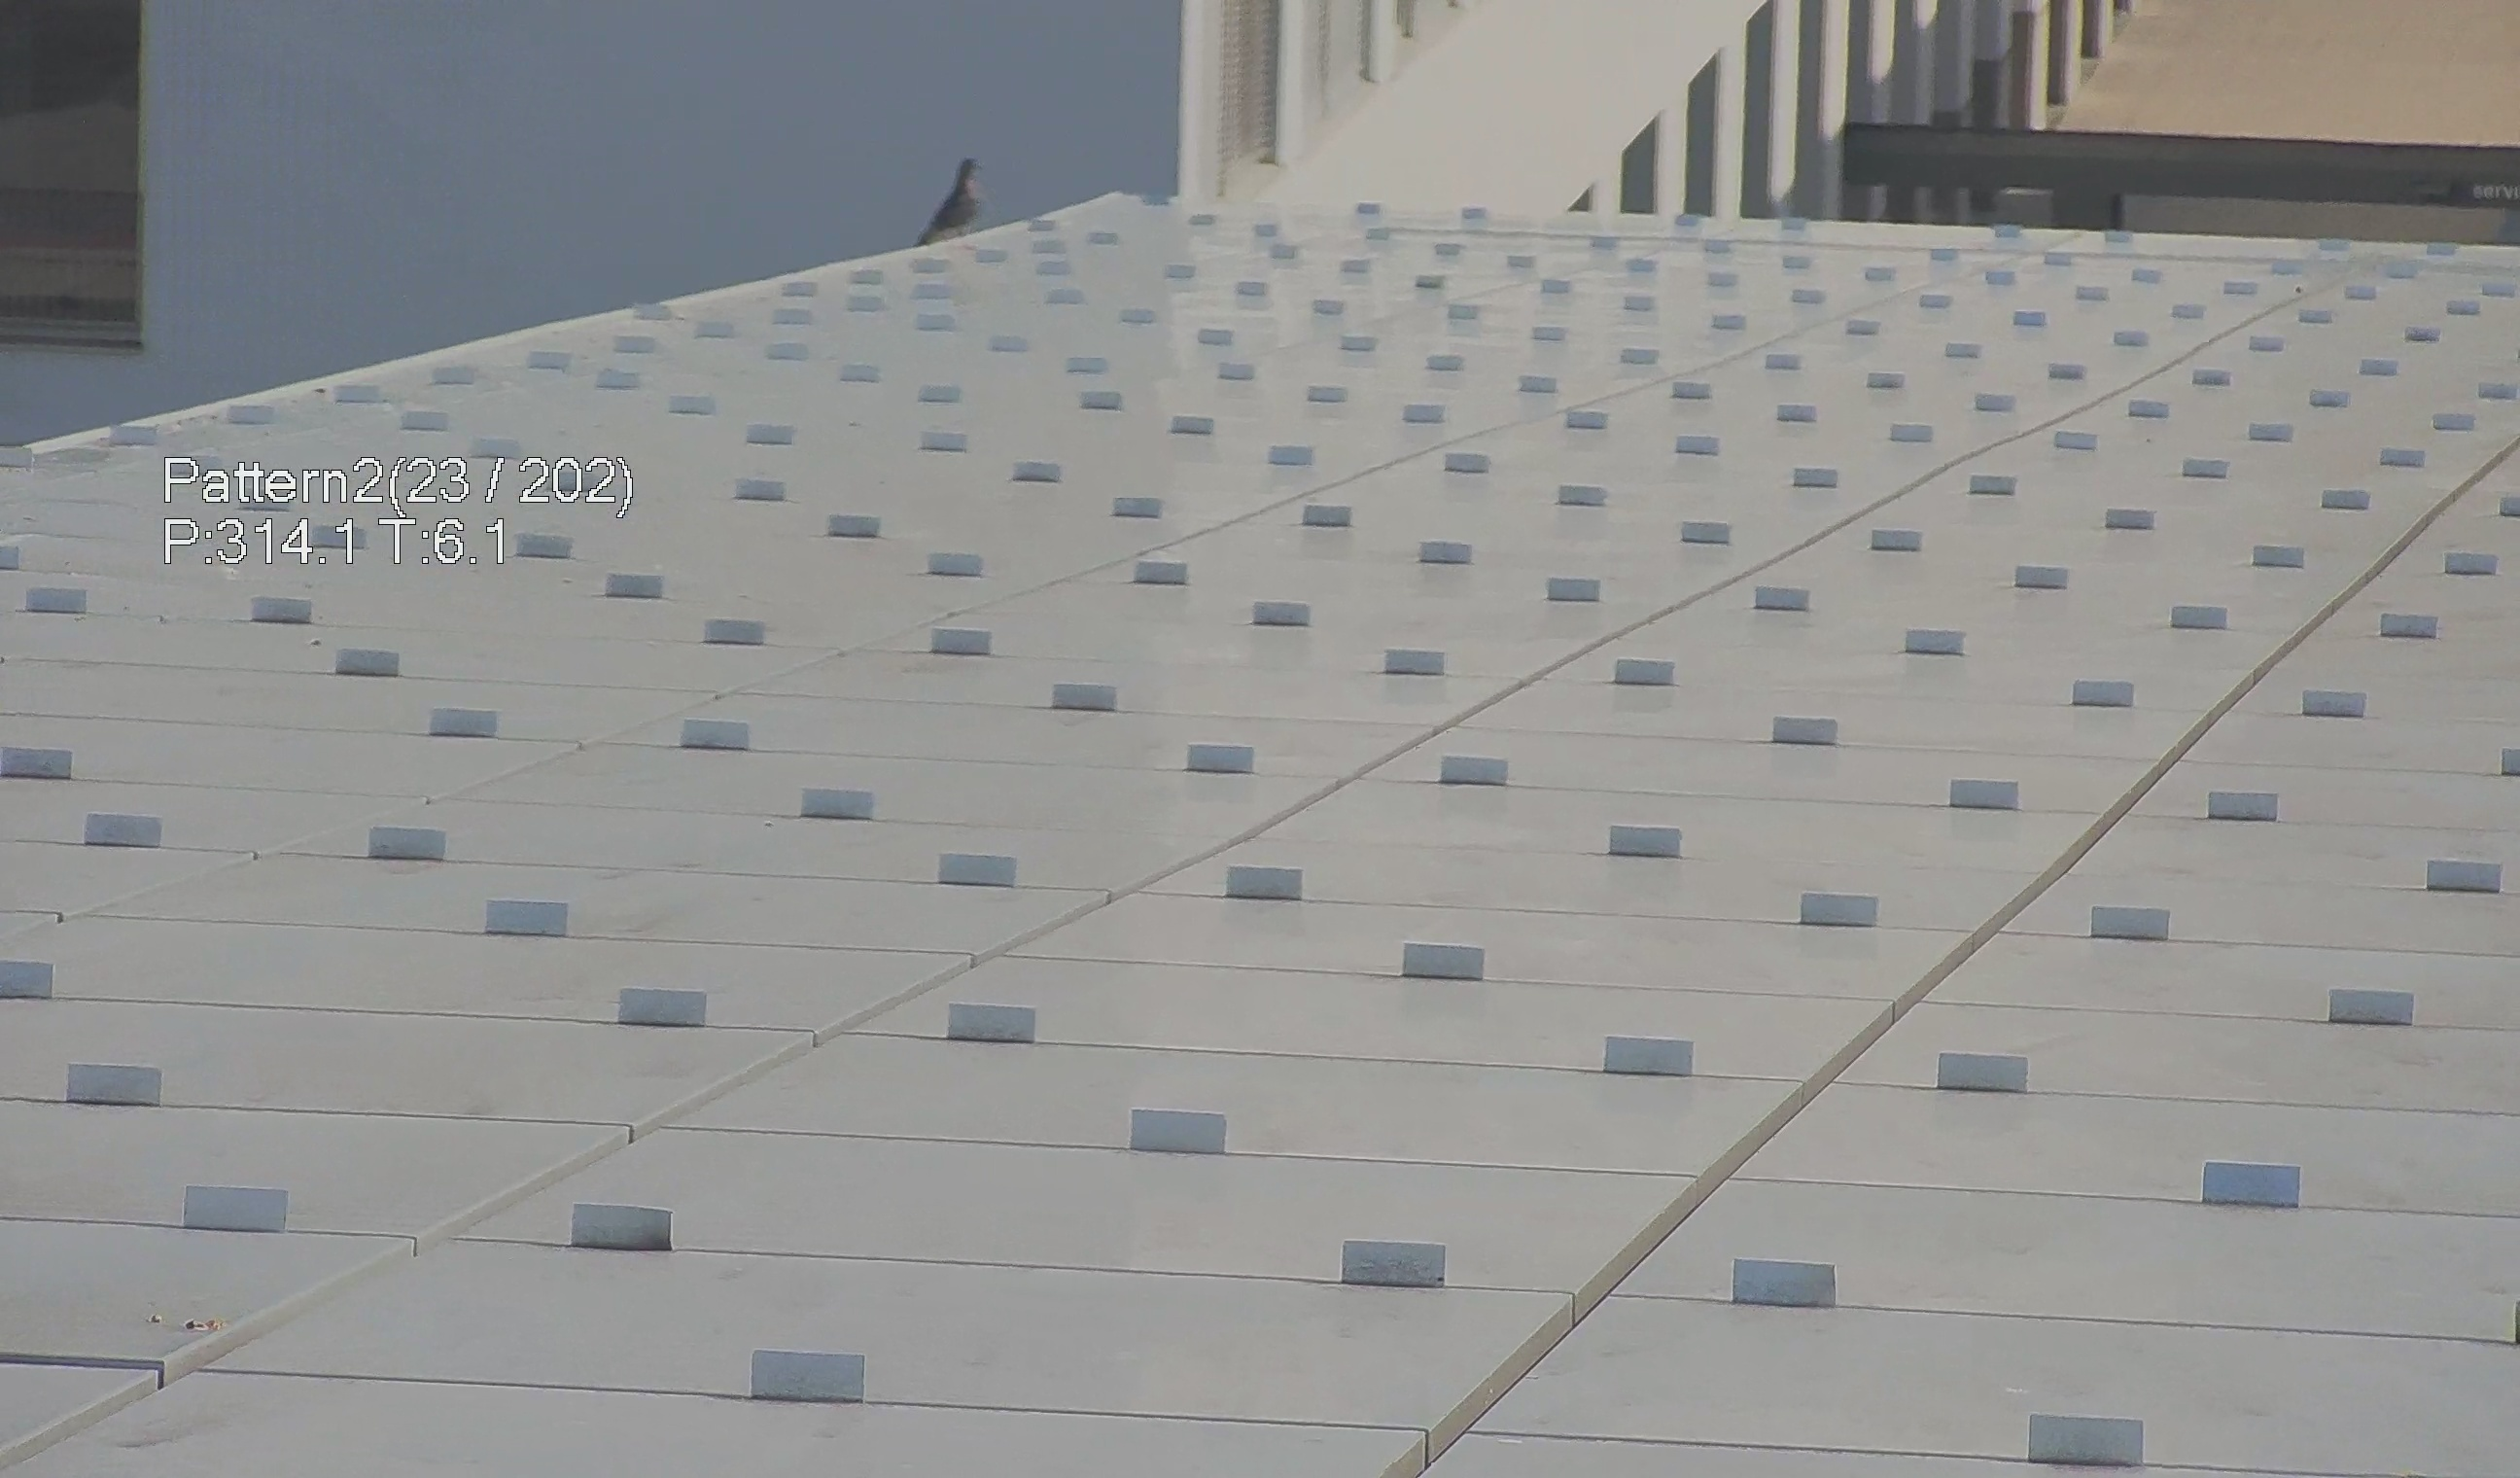Pigeon: (895, 144, 995, 255)
